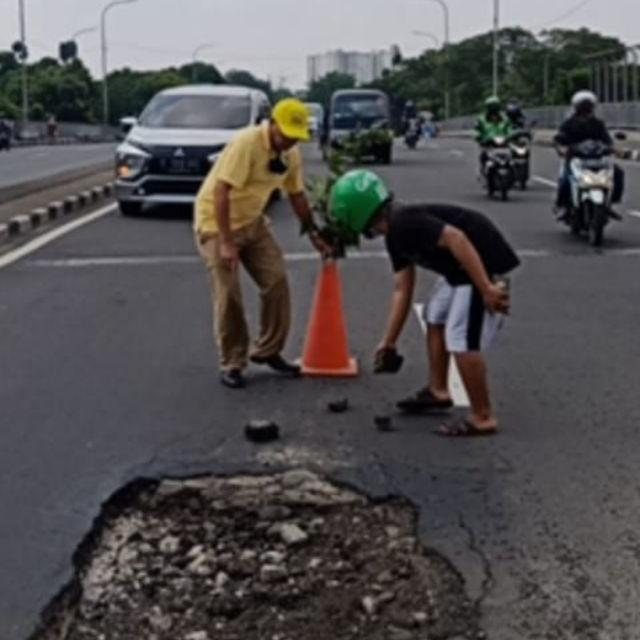lubang_kecil: (0, 461, 514, 640)
